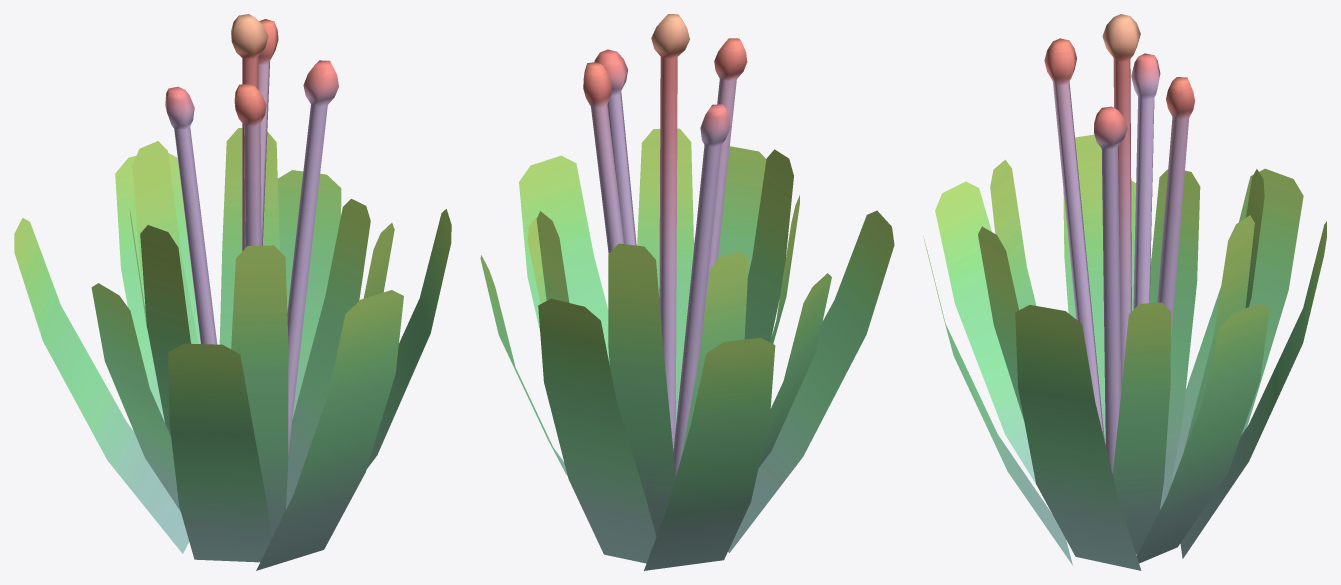
File: Flower.027_Base_Material_0.fbx
3 views of the same model, side by side, from view 1: azimuth 30°, elevation 25°; view 2: azimuth 150°, elevation 25°; view 3: azimuth 270°, elevation 25° (orthographic).
Visible parts, largest first — view 1: Flower.027_Base_Material_0_export; view 2: Flower.027_Base_Material_0_export; view 3: Flower.027_Base_Material_0_export.
Part boxes in pixels (bbox=[...]): Flower.027_Base_Material_0_export: bbox=[14, 14, 451, 570]; Flower.027_Base_Material_0_export: bbox=[480, 14, 894, 570]; Flower.027_Base_Material_0_export: bbox=[923, 14, 1326, 570].
Bounding box in the file's own units: 1.88 × 2.76 × 1.93.
